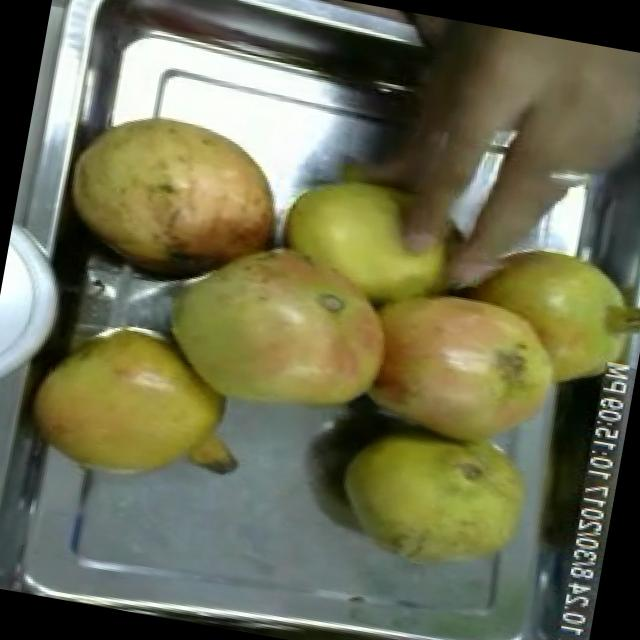fruit: (132, 202, 426, 446), (46, 90, 310, 314), (9, 291, 267, 512), (347, 263, 583, 461), (319, 404, 551, 592)
